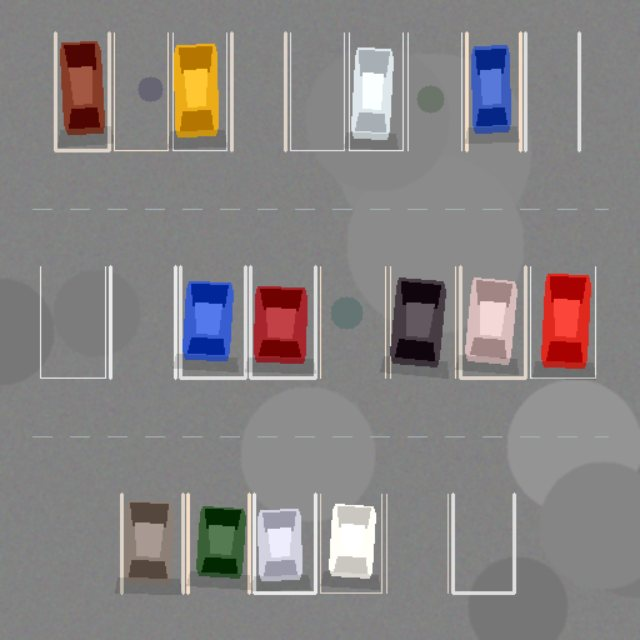space-empty: (40, 266, 105, 378), (110, 266, 175, 378), (320, 266, 385, 378), (114, 32, 168, 150), (231, 32, 285, 150), (290, 32, 344, 150), (525, 32, 579, 150), (408, 32, 461, 150), (386, 494, 447, 593), (453, 494, 514, 593)
space-occupied: (180, 266, 245, 378), (250, 266, 315, 378), (390, 266, 455, 378), (460, 266, 525, 378), (530, 266, 595, 378), (55, 32, 109, 150), (172, 32, 226, 150), (466, 32, 520, 150), (349, 32, 402, 150), (121, 494, 183, 593), (187, 494, 249, 593), (254, 494, 315, 593), (320, 494, 381, 593)
